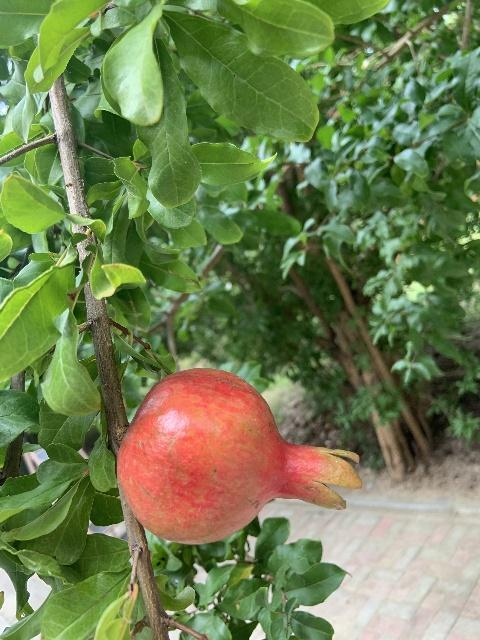ripe: (116, 367, 362, 543)
